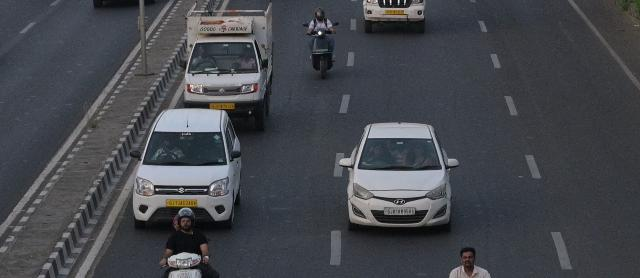With Helmet: (177, 206, 195, 231), (314, 6, 326, 21)
Without Helmet: (456, 246, 479, 266), (172, 214, 180, 236)
